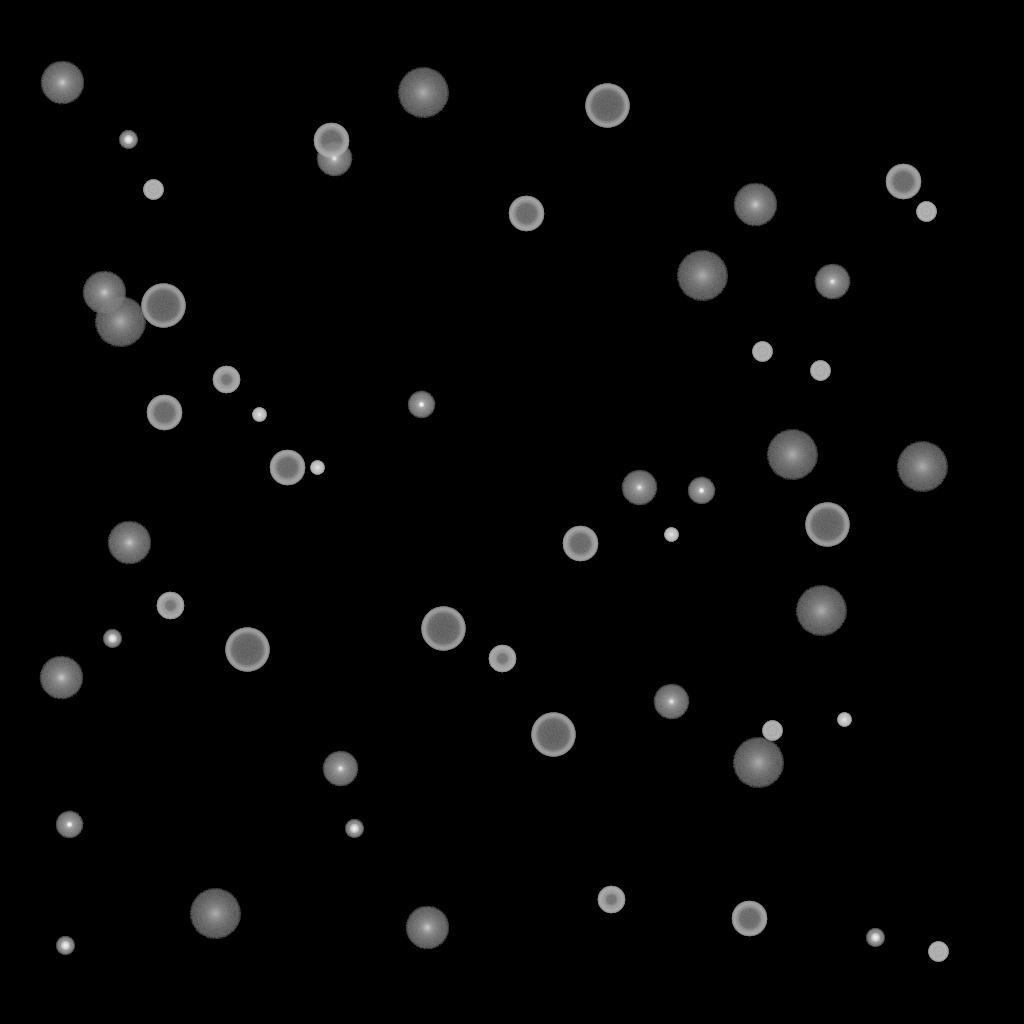depth:-10: (407, 391, 435, 419), (687, 477, 715, 505), (55, 811, 83, 839)
depth:-20: (56, 937, 74, 955), (866, 929, 884, 947), (119, 131, 137, 149), (103, 630, 121, 648), (345, 820, 363, 838)
depth:-30: (310, 461, 324, 475), (837, 713, 851, 727), (664, 528, 678, 542), (252, 408, 266, 422)
depth:-40: (752, 342, 772, 362), (810, 361, 830, 381), (928, 942, 948, 962), (143, 180, 163, 200), (916, 202, 936, 222), (762, 721, 782, 741)
depth:-50: (488, 645, 516, 673), (156, 592, 184, 620), (212, 366, 240, 394), (597, 886, 625, 914)
depth:-60: (731, 901, 767, 937), (313, 123, 349, 159), (885, 164, 921, 200), (146, 395, 182, 431), (562, 526, 598, 562), (269, 450, 305, 486), (508, 196, 544, 232)
depth:-70: (421, 607, 465, 651), (141, 284, 185, 328), (225, 628, 269, 672), (531, 713, 575, 757), (585, 84, 629, 128), (805, 503, 849, 547)
depth:0: (653, 684, 689, 720), (621, 470, 657, 506), (316, 141, 352, 177), (814, 264, 850, 300), (322, 751, 358, 787)
depth:10: (107, 521, 151, 565), (39, 656, 83, 700), (733, 183, 777, 227), (82, 271, 126, 315), (40, 61, 84, 105), (405, 906, 449, 950)
depth:20: (896, 442, 948, 492), (94, 297, 146, 347), (397, 68, 449, 118), (766, 430, 818, 480), (676, 251, 728, 301), (732, 738, 784, 788), (189, 889, 241, 939), (795, 586, 847, 636)
